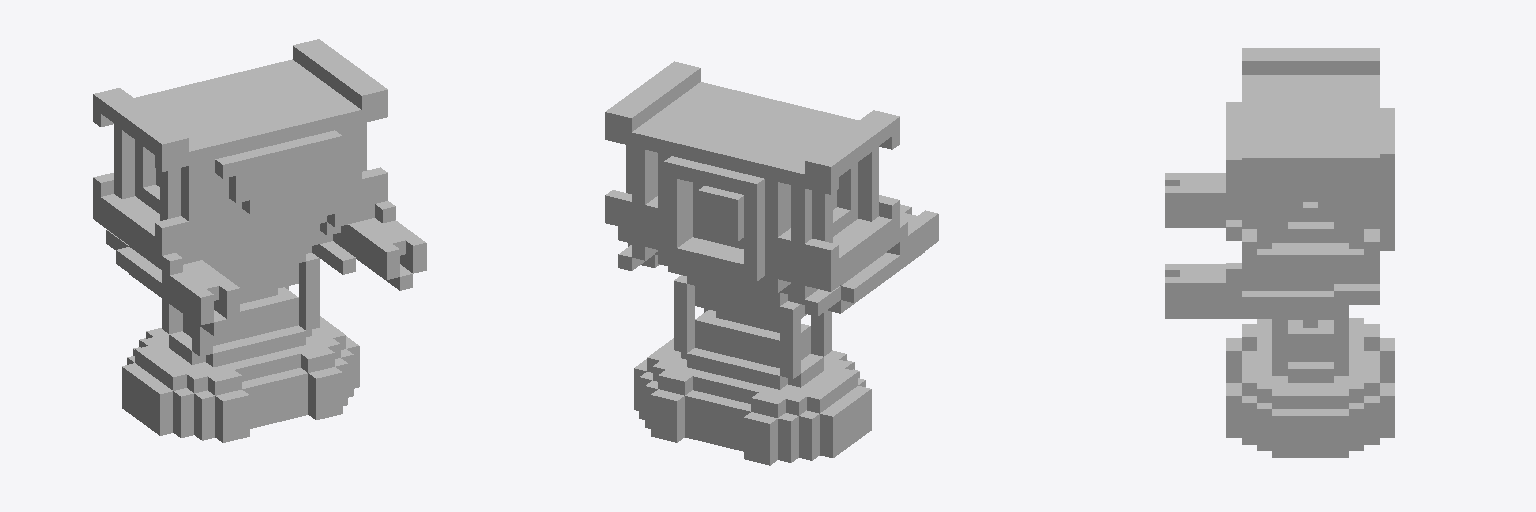
The model's file is mech.obj.
The picture shows the model from 3 angles: view 1: azimuth 30°, elevation 25°; view 2: azimuth 150°, elevation 25°; view 3: azimuth 270°, elevation 25°; orthographic projection.
Visible parts, largest first — view 1: object 1; view 2: object 1; view 3: object 1.
Part boxes in pixels (x1,y1,x2,y2): object 1: (93, 39, 426, 442); object 1: (605, 61, 938, 465); object 1: (1165, 48, 1394, 457).
Bounding box in the file's own units: 1.7 × 2.2 × 1.5.